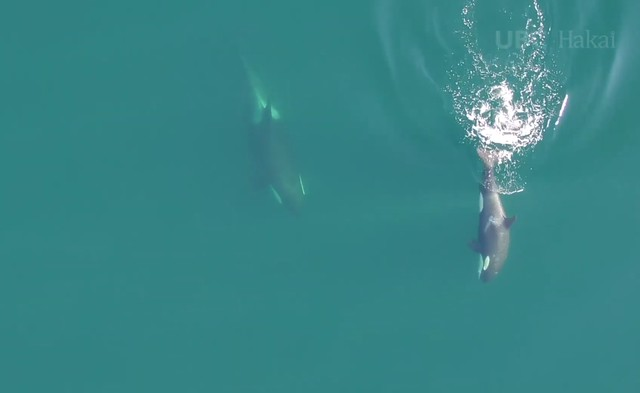whale: (217, 35, 313, 228), (457, 127, 527, 291)
